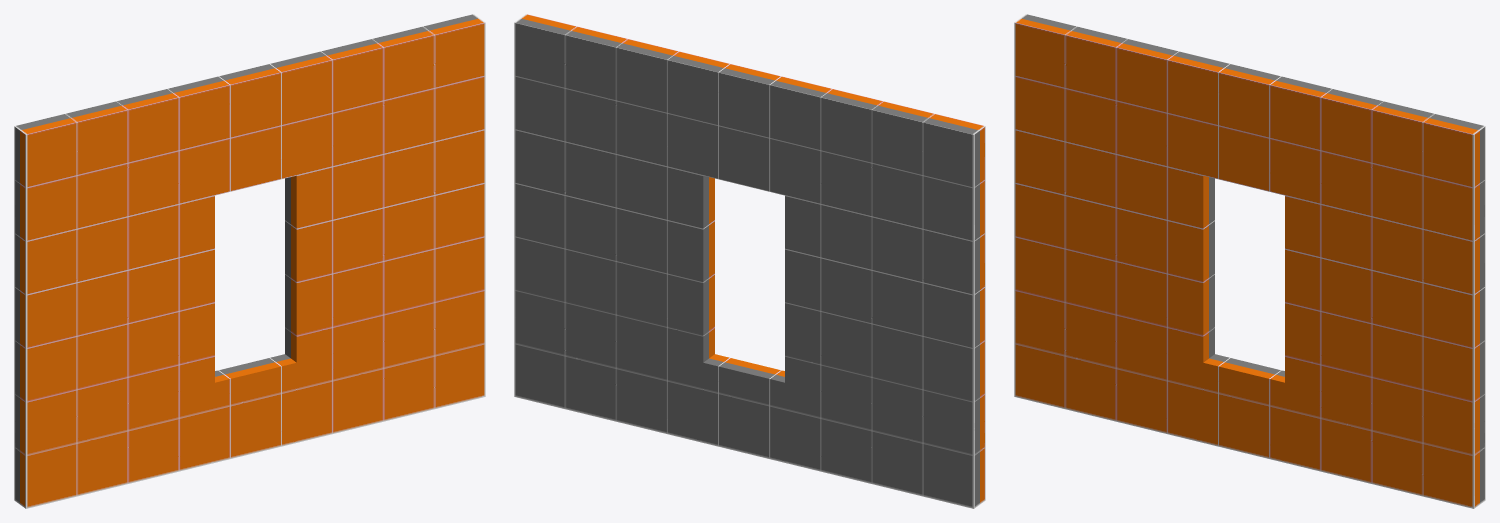
File: M01WallWindowTypeF_1.FBX
The picture shows the model from 3 angles, left to right: view 1: azimuth 30°, elevation 25°; view 2: azimuth 150°, elevation 25°; view 3: azimuth 330°, elevation 25°; orthographic projection.
Visible parts, largest first — view 1: M01WallWindowTypeF_1; view 2: M01WallWindowTypeF_1; view 3: M01WallWindowTypeF_1.
Part boxes in pixels (x1,y1,x2,y2): M01WallWindowTypeF_1: [14, 14, 485, 508]; M01WallWindowTypeF_1: [514, 14, 985, 508]; M01WallWindowTypeF_1: [1014, 14, 1485, 508].
Size of what is drawn, in the model's own units: 4.5 by 3.5 by 0.2.
